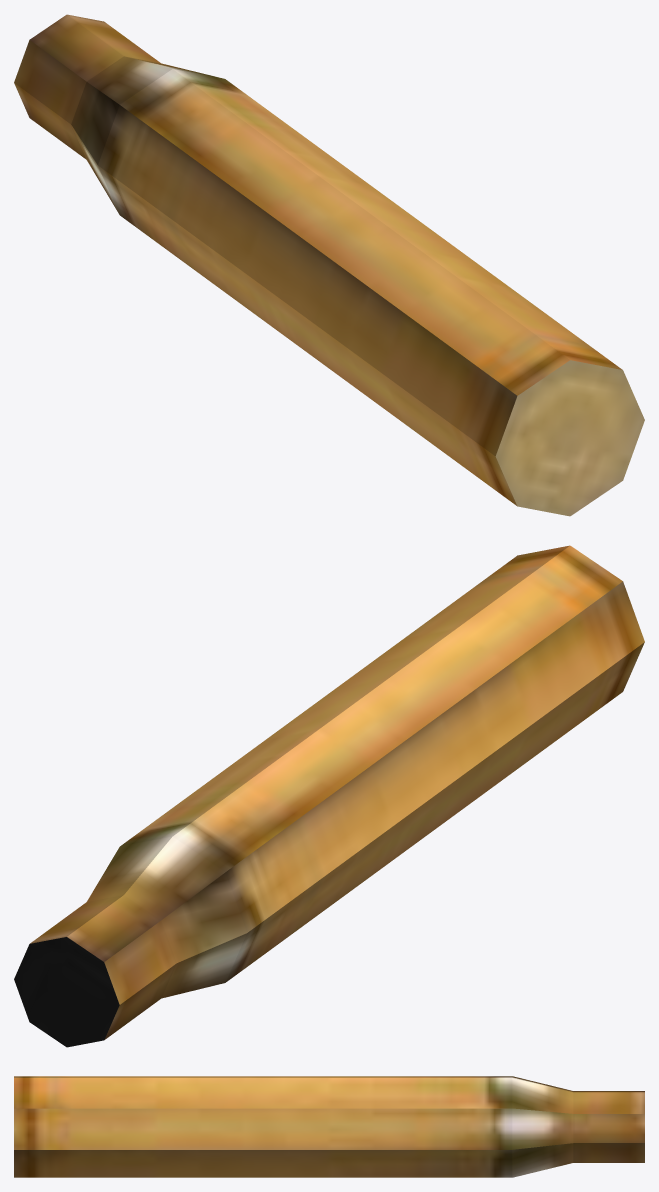
3 renders of one model, top to bottom at view 1: azimuth 30°, elevation 25°; view 2: azimuth 150°, elevation 25°; view 3: azimuth 270°, elevation 25°, orthographic. The views are drawn at different scales.
Visible parts, largest first — view 1: c_556; view 2: c_556; view 3: c_556.
Boxes of the visible parts, x1,y1,x2,y2 form: c_556: (14,14,644,516); c_556: (14,545,644,1047); c_556: (14,1076,644,1177).
Bounding box in the file's own units: 0.00752 × 0.00753 × 0.0439.
Materials: 1 (1 with a texture image).
